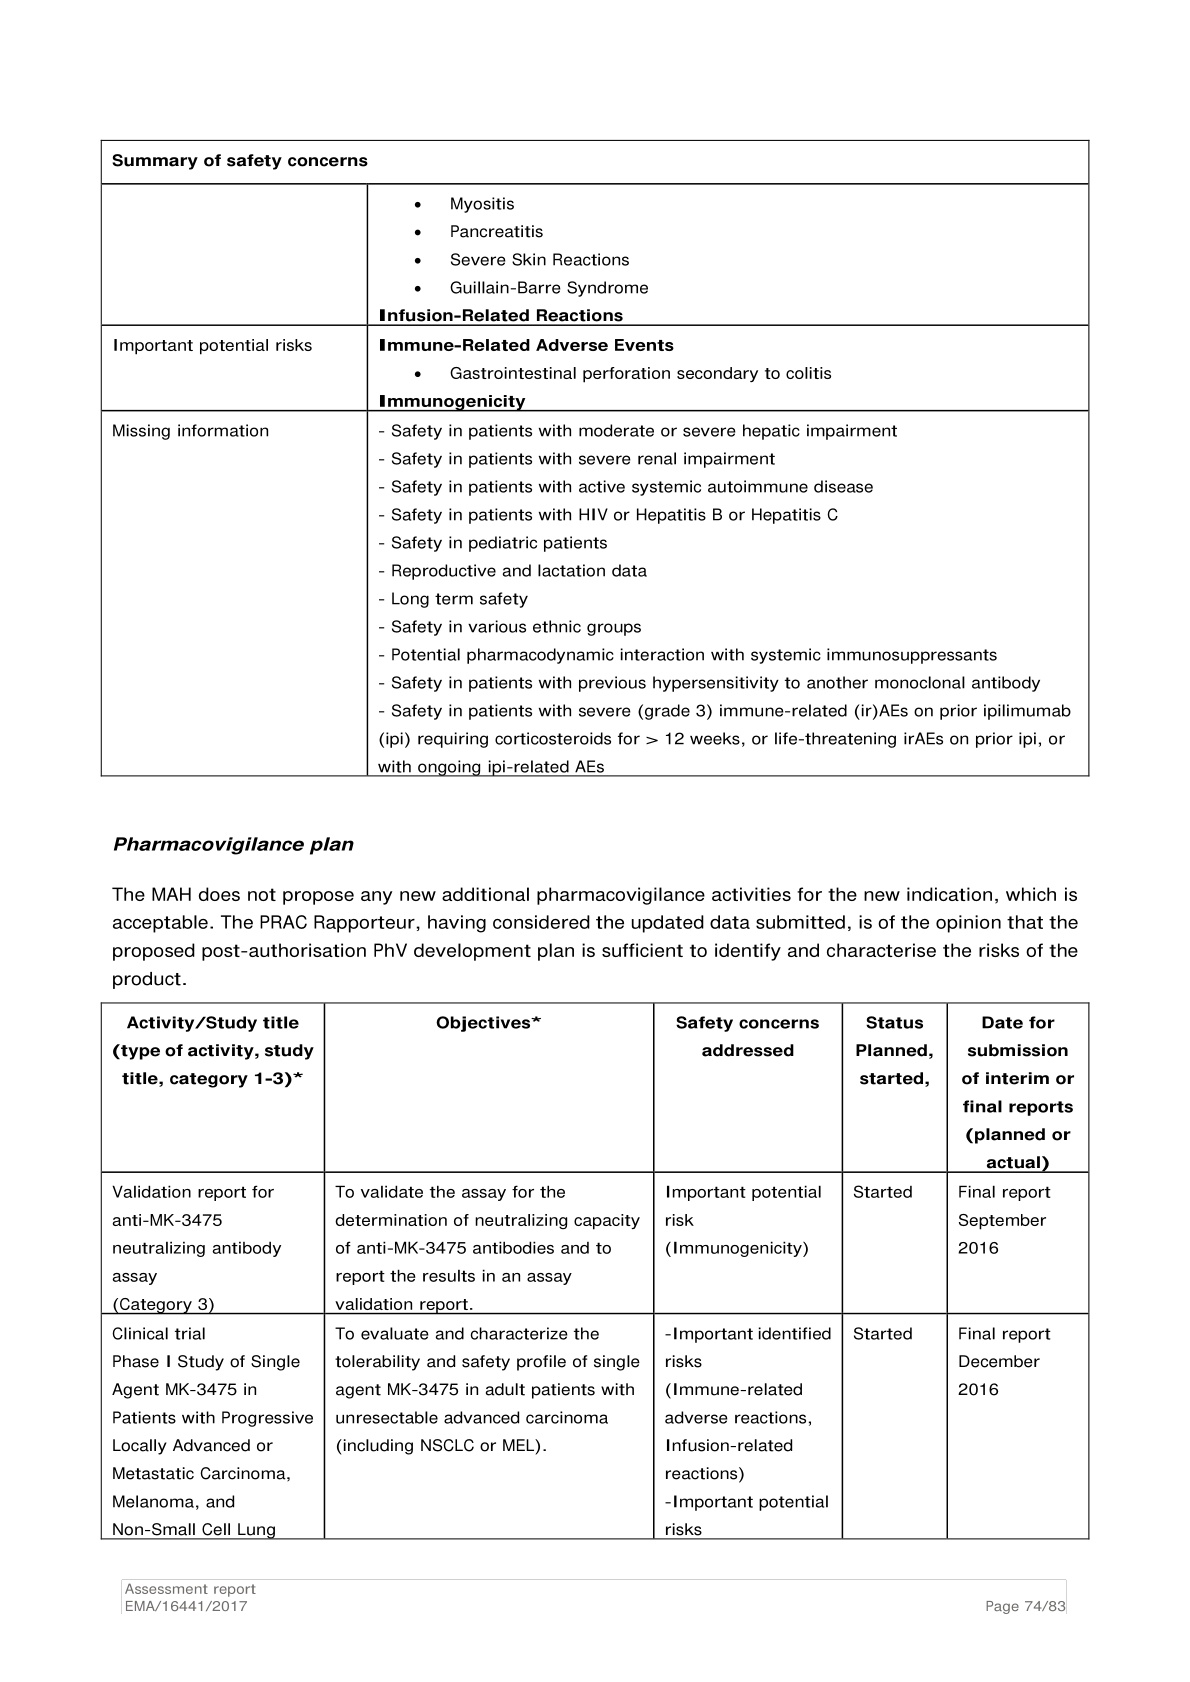full_lined: (100, 1001, 1091, 1542)
merged_cells: (100, 139, 1091, 778)
